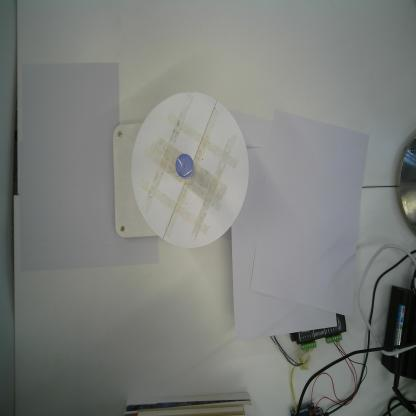Stationery: (175, 153, 195, 182)
